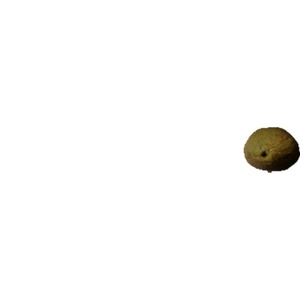mamão: (238, 125, 298, 172)
